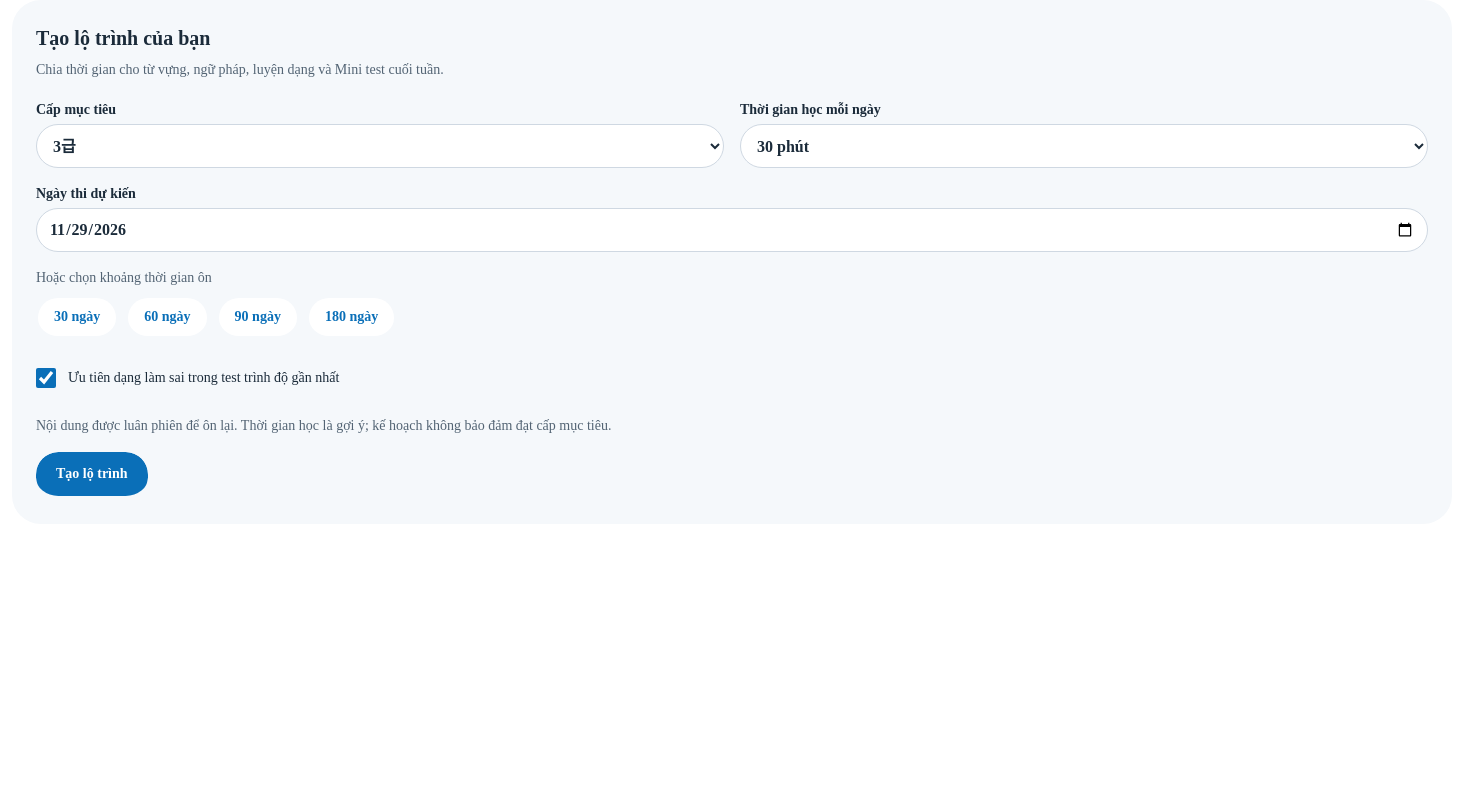
Test: Lộ trình của khách › dạng làm sai từ placement được lưu vào kế hoạch; hoàn thành ngày hiện thông báo thật
Expected: the checkbox labelled "Ưu tiên dạng làm sai trong test trình độ gần nhất" is checked, [36,368,56,388]
Step 1. Click the button "Tạo lộ trình" → (92, 476), box [36,452,148,500]
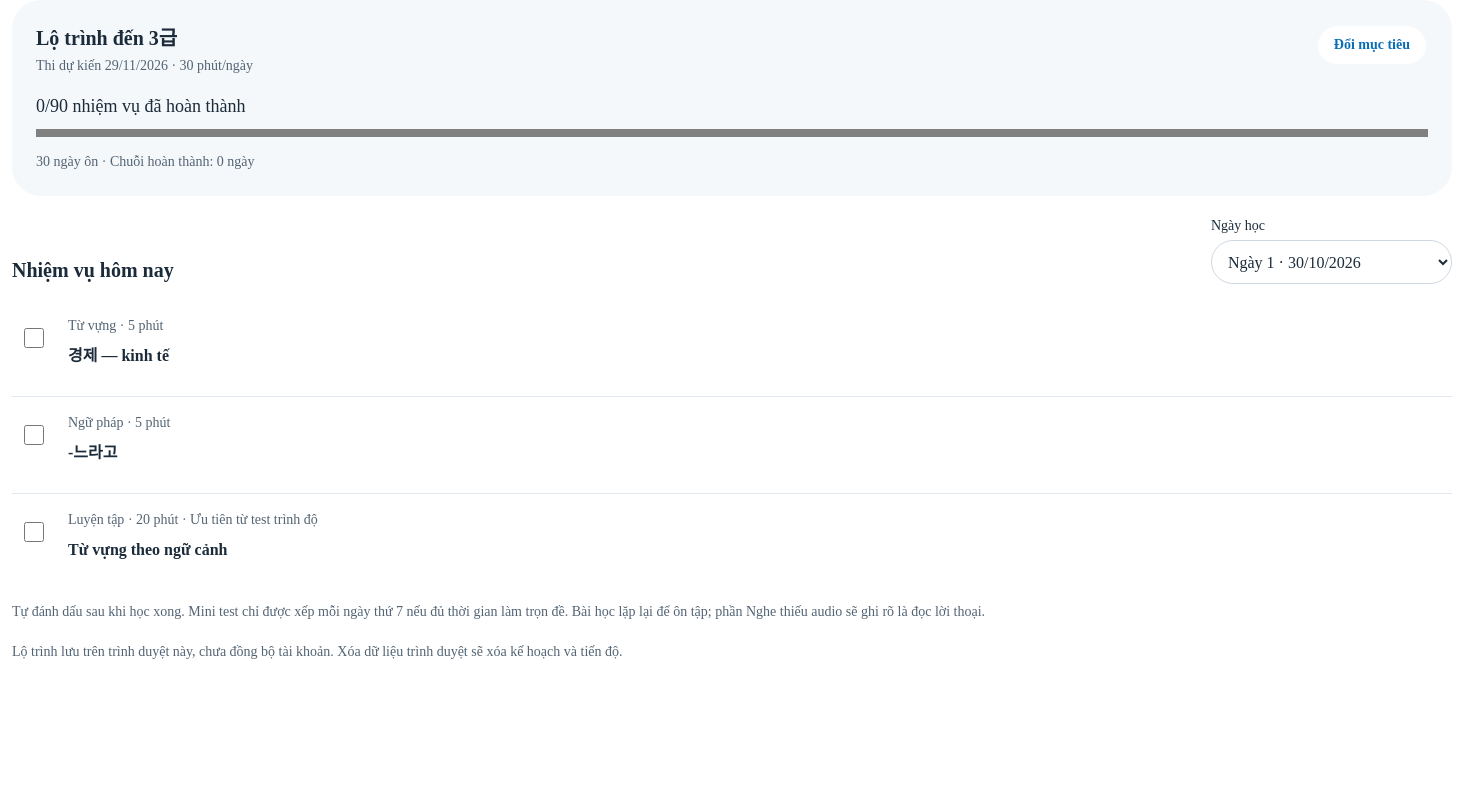
Expected: the heading "Lộ trình đến 3급" is shown, [36,27,177,49]
Step 2. Click the checkbox named "Hoàn thành: 경제 — kinh tế" → (34, 338), box [24,328,44,348]
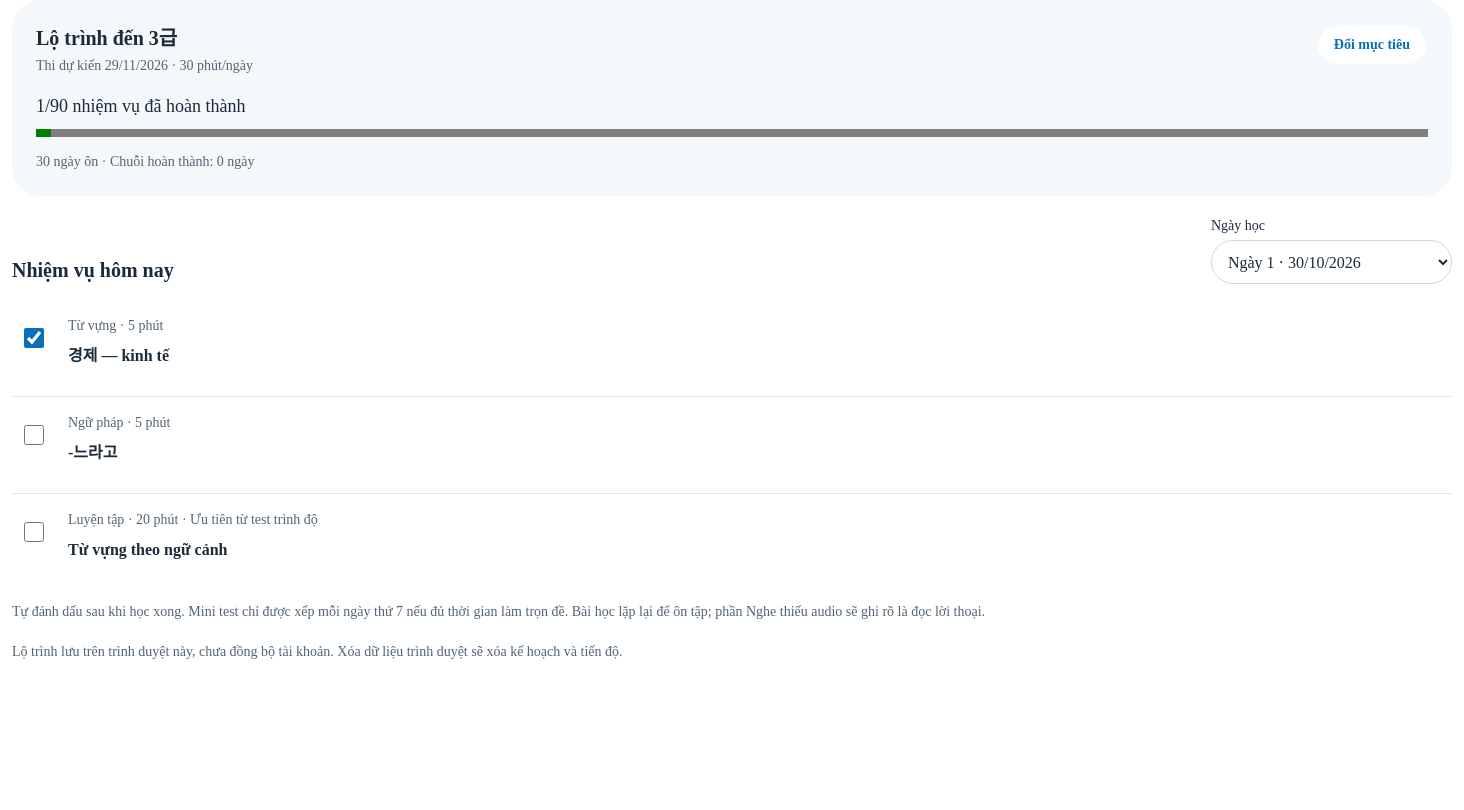
Step 3. Click the checkbox named "Hoàn thành: -느라고" → (34, 435), box [24,425,44,445]
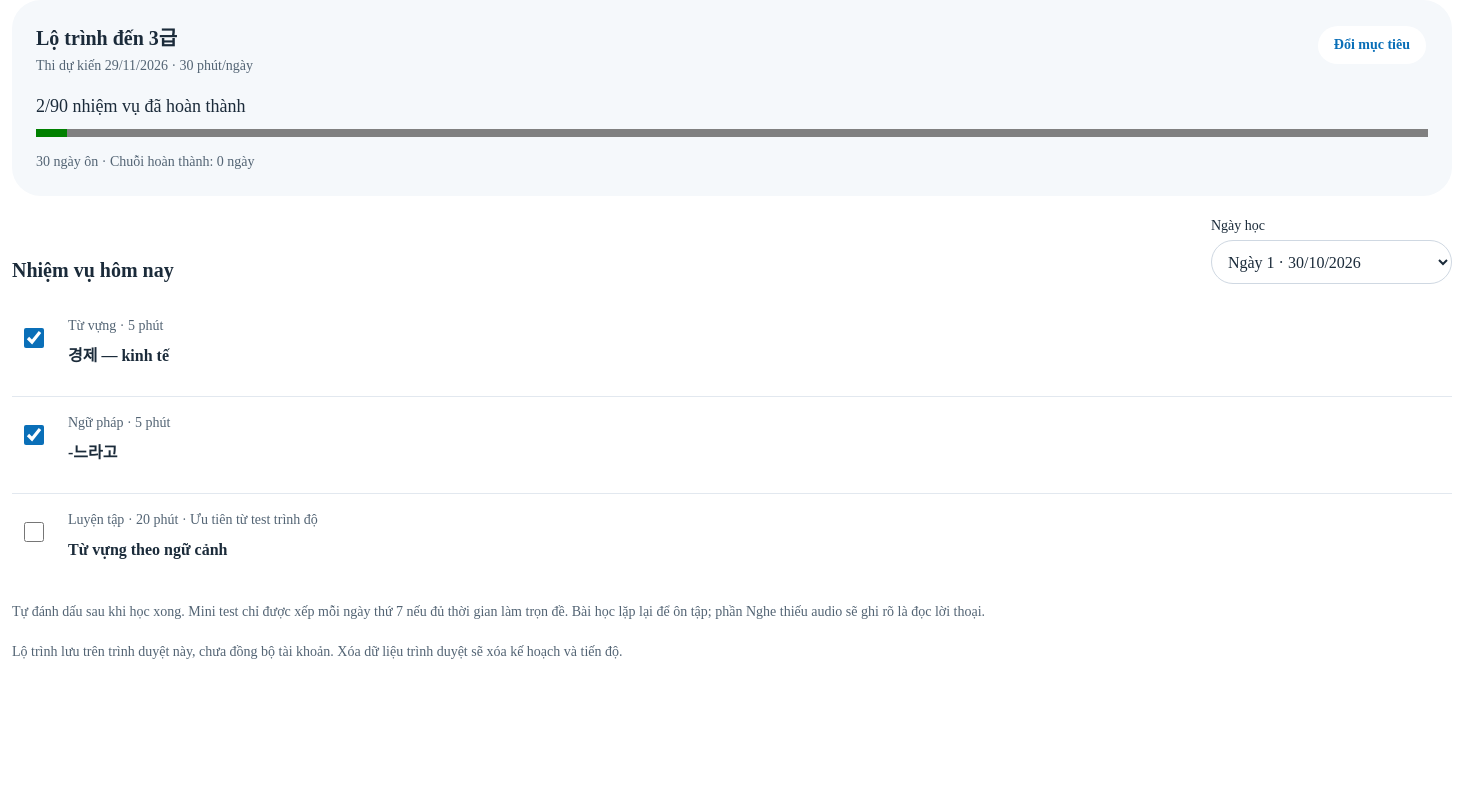
Step 4. Click the checkbox named "Hoàn thành: Từ vựng theo ngữ cảnh" → (34, 532), box [24,522,44,542]
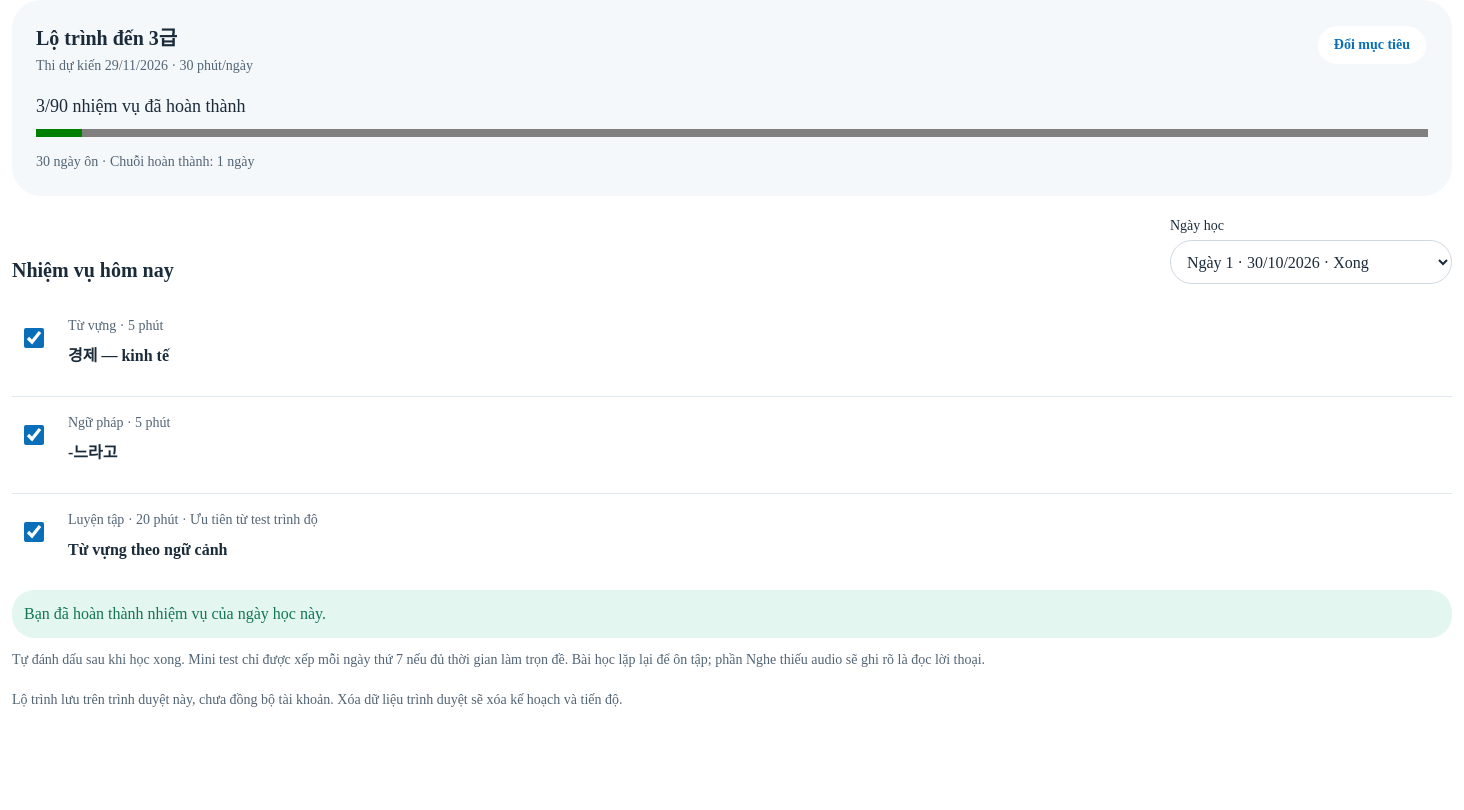
Expected: the message shows "Bạn đã hoàn thành nhiệm vụ", [24,605,326,622]
